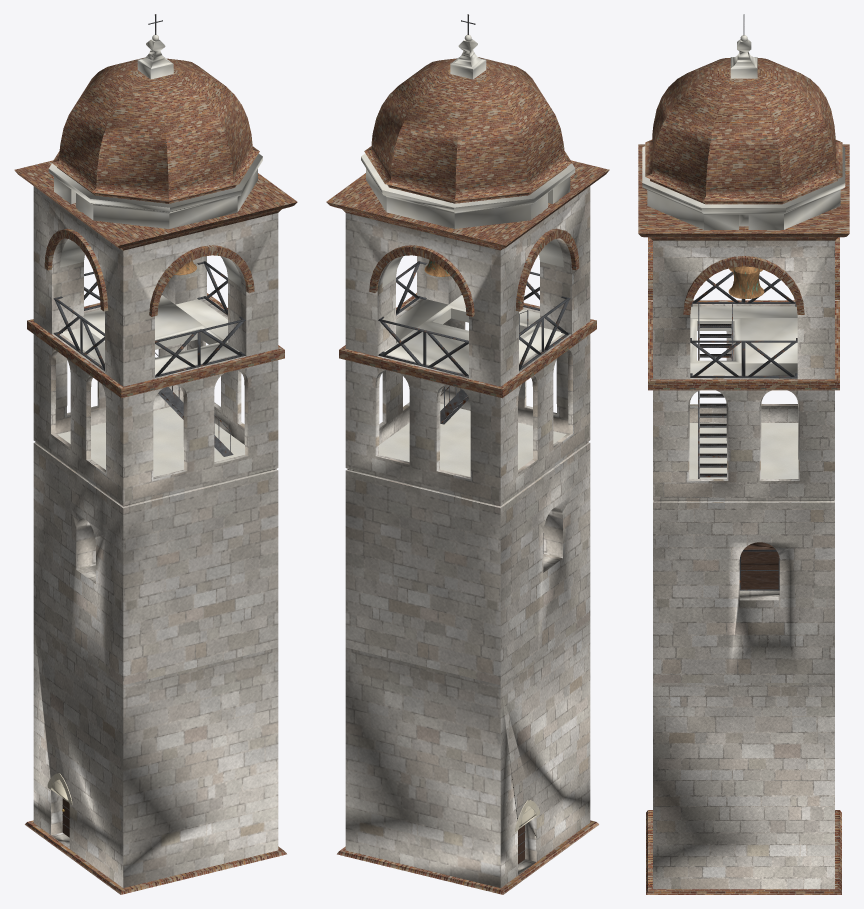
Rendered from campanile.fbx.
The picture shows the model from 3 angles, left to right: view 1: azimuth 30°, elevation 25°; view 2: azimuth 150°, elevation 25°; view 3: azimuth 270°, elevation 25°; orthographic projection.
Parts seen in each view (by area): view 1: Sezione centrale, Sezione inferiore, Sezione superiore, Cupola, Base cupola, Cornicione cupola, Cornicione centrale, Ringhiera superiore, Archi superiori, Cornicione inferiore, Punta cupola, Gradini scala; view 2: Sezione centrale, Sezione inferiore, Sezione superiore, Cupola, Base cupola, Cornicione cupola, Cornicione centrale, Ringhiera superiore, Archi superiori, Cornicione inferiore, Punta cupola; view 3: Sezione centrale, Sezione inferiore, Cupola, Sezione superiore, Base cupola, Cornicione cupola, Cornicione centrale, Archi superiori, Cornicione inferiore, Ringhiera superiore, Gradini scala, Campana destra (+1 smaller).
Boxes of the visible parts, left/top/right/bottom form: Sezione centrale: left=33, top=329, right=278, bottom=685; Sezione inferiore: left=33, top=620, right=278, bottom=888; Sezione superiore: left=33, top=186, right=278, bottom=386; Cupola: left=52, top=57, right=259, bottom=203; Base cupola: left=48, top=153, right=262, bottom=228; Cornicione cupola: left=14, top=160, right=297, bottom=250; Cornicione centrale: left=27, top=293, right=284, bottom=398; Ringhiera superiore: left=53, top=261, right=245, bottom=377; Archi superiori: left=44, top=228, right=254, bottom=316; Cornicione inferiore: left=25, top=820, right=286, bottom=894; Punta cupola: left=137, top=39, right=173, bottom=79; Gradini scala: left=158, top=387, right=233, bottom=456; Sezione centrale: left=345, top=308, right=590, bottom=685; Sezione inferiore: left=345, top=620, right=590, bottom=888; Sezione superiore: left=345, top=186, right=590, bottom=386; Cupola: left=364, top=57, right=571, bottom=203; Base cupola: left=361, top=153, right=575, bottom=228; Cornicione cupola: left=326, top=160, right=609, bottom=250; Cornicione centrale: left=339, top=293, right=596, bottom=398; Ringhiera superiore: left=378, top=261, right=570, bottom=377; Archi superiori: left=369, top=228, right=579, bottom=316; Cornicione inferiore: left=337, top=820, right=598, bottom=894; Punta cupola: left=450, top=39, right=486, bottom=79; Sezione centrale: left=653, top=321, right=834, bottom=682; Sezione inferiore: left=653, top=683, right=834, bottom=889; Cupola: left=645, top=58, right=842, bottom=204; Sezione superiore: left=653, top=240, right=834, bottom=379; Base cupola: left=642, top=146, right=845, bottom=229; Cornicione cupola: left=638, top=144, right=849, bottom=240; Cornicione centrale: left=648, top=300, right=839, bottom=390; Archi superiori: left=648, top=237, right=839, bottom=314; Cornicione inferiore: left=646, top=810, right=841, bottom=894; Ringhiera superiore: left=690, top=272, right=797, bottom=377; Gradini scala: left=698, top=322, right=733, bottom=478; Campana destra: left=728, top=266, right=764, bottom=298.
Bounding box in the file's own units: 650 × 2848 × 650.
